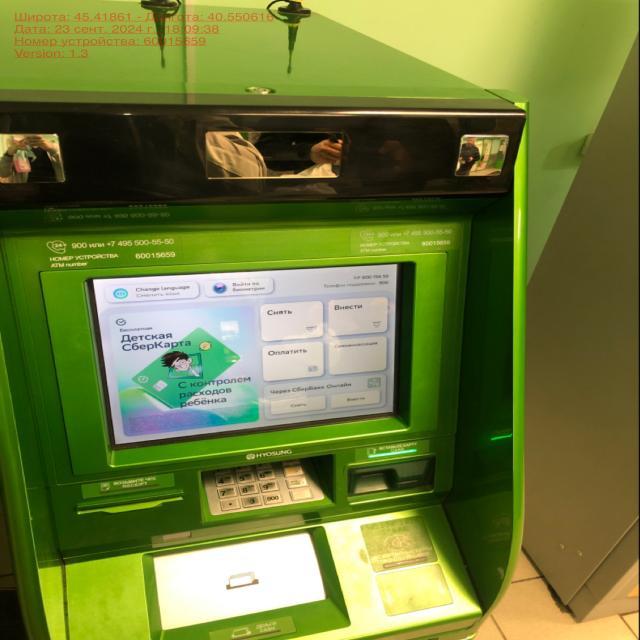bank: (0, 0, 524, 640)
